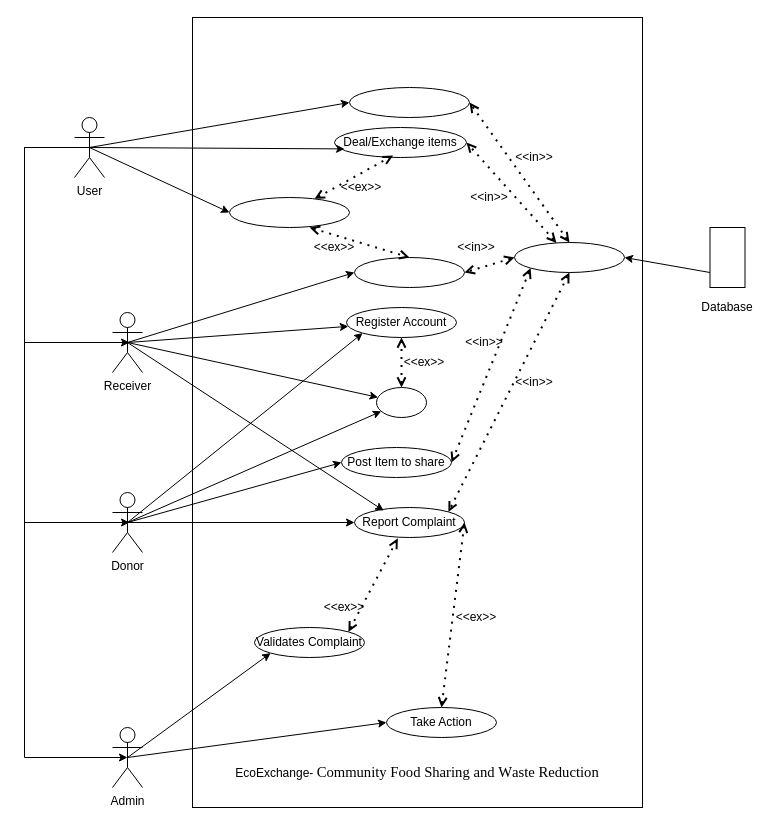
The diagram is 775 pixels wide and 826 high, and some of its shapes have lost their labels. The centre of each missing label's shape, as x and y in pixels:
"Chat with other users" belongs at [409,102].
"Get shared item" belongs at [409,272].
"Login" belongs at [401,402].
"Review items" belongs at [289,212].
"Saves info" belongs at [569,257].
